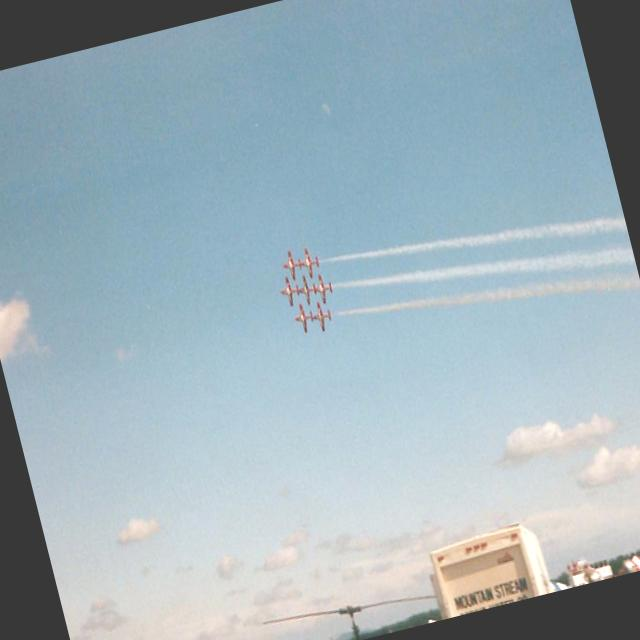Vehicle: (424, 520, 568, 618)
